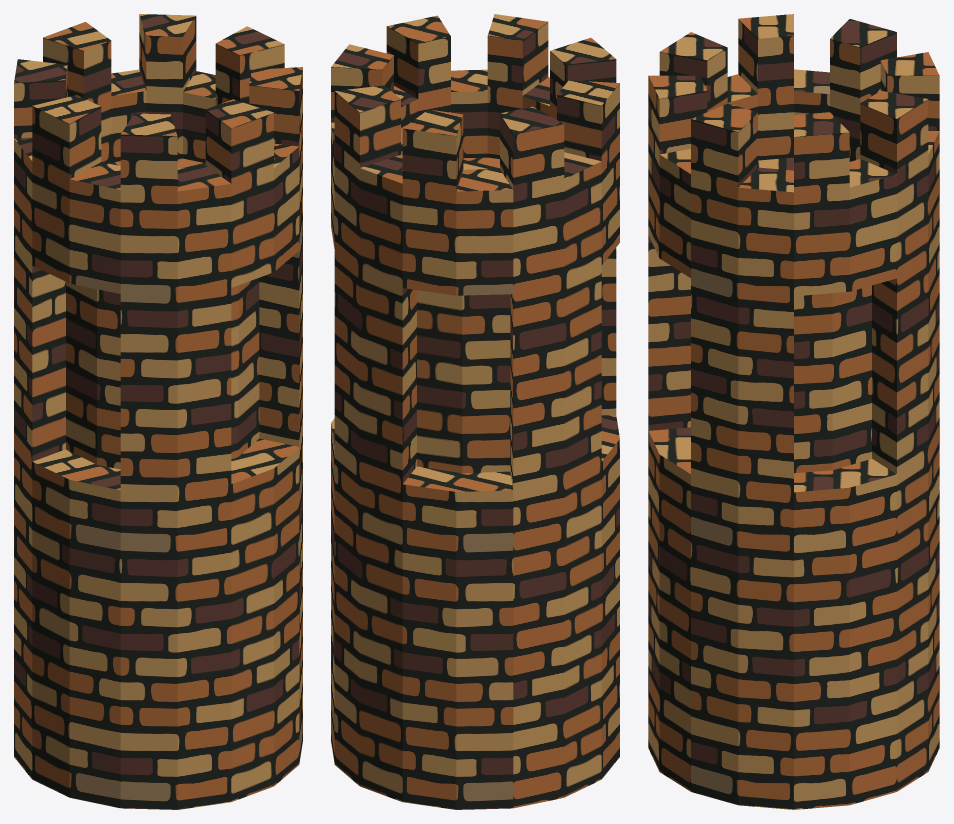
The model's file is Towers.fbx.
3 views of the same model, side by side, from view 1: azimuth 30°, elevation 25°; view 2: azimuth 150°, elevation 25°; view 3: azimuth 270°, elevation 25° (orthographic).
Parts seen in each view (by area): view 1: BoringTower; view 2: BoringTower; view 3: BoringTower.
Part boxes in pixels (left/top/right/bottom): BoringTower: left=14, top=14, right=302, bottom=809; BoringTower: left=331, top=14, right=619, bottom=809; BoringTower: left=648, top=14, right=939, bottom=809.
Size of the model in its own units: 574 by 1465 by 574.
